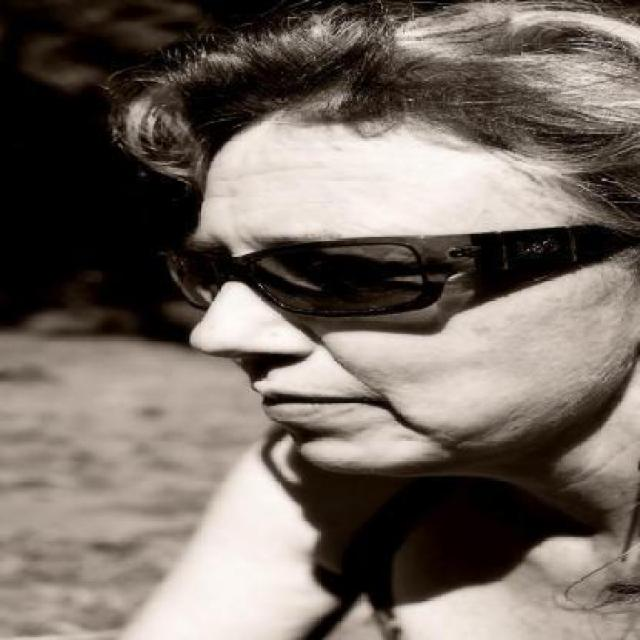face_nomask: (174, 228, 443, 450)
glasses: (162, 218, 640, 324)
head_nohelmet: (127, 28, 640, 200)
